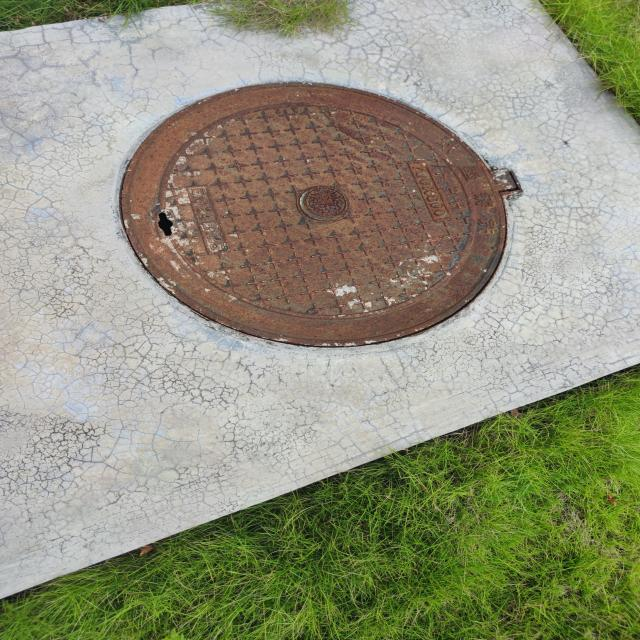Good: (111, 77, 525, 353)
